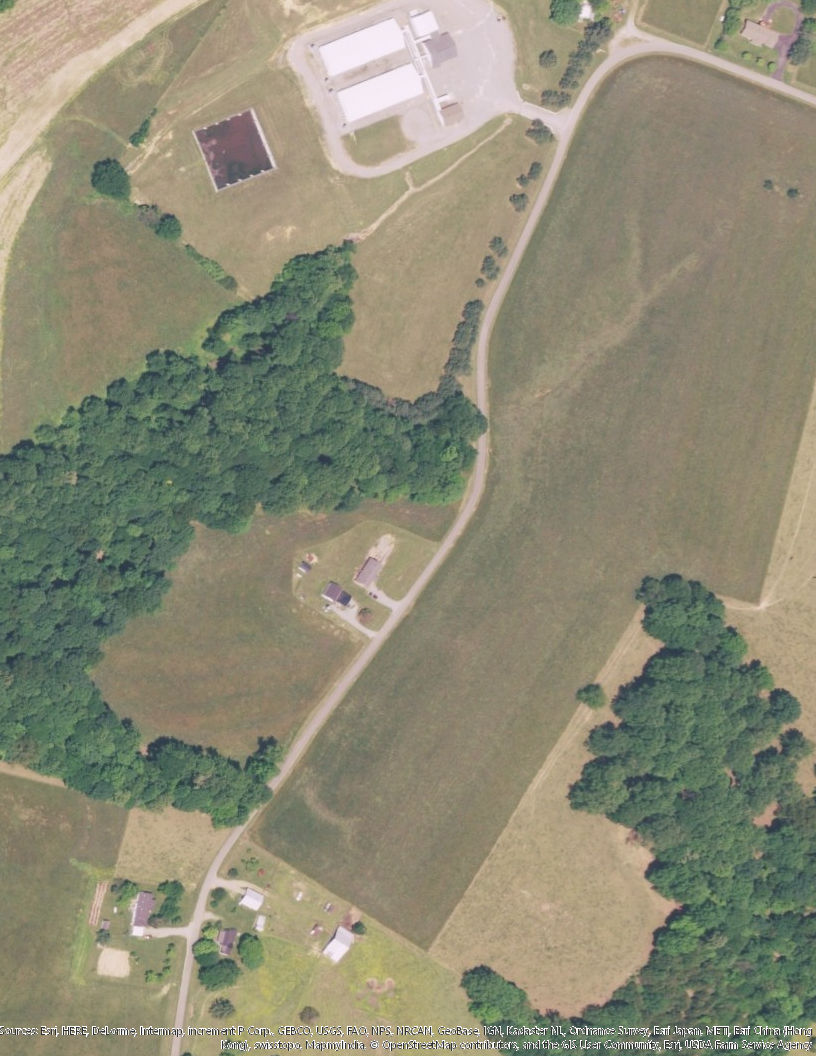cafo: (336, 63, 425, 122), (319, 19, 407, 77)
